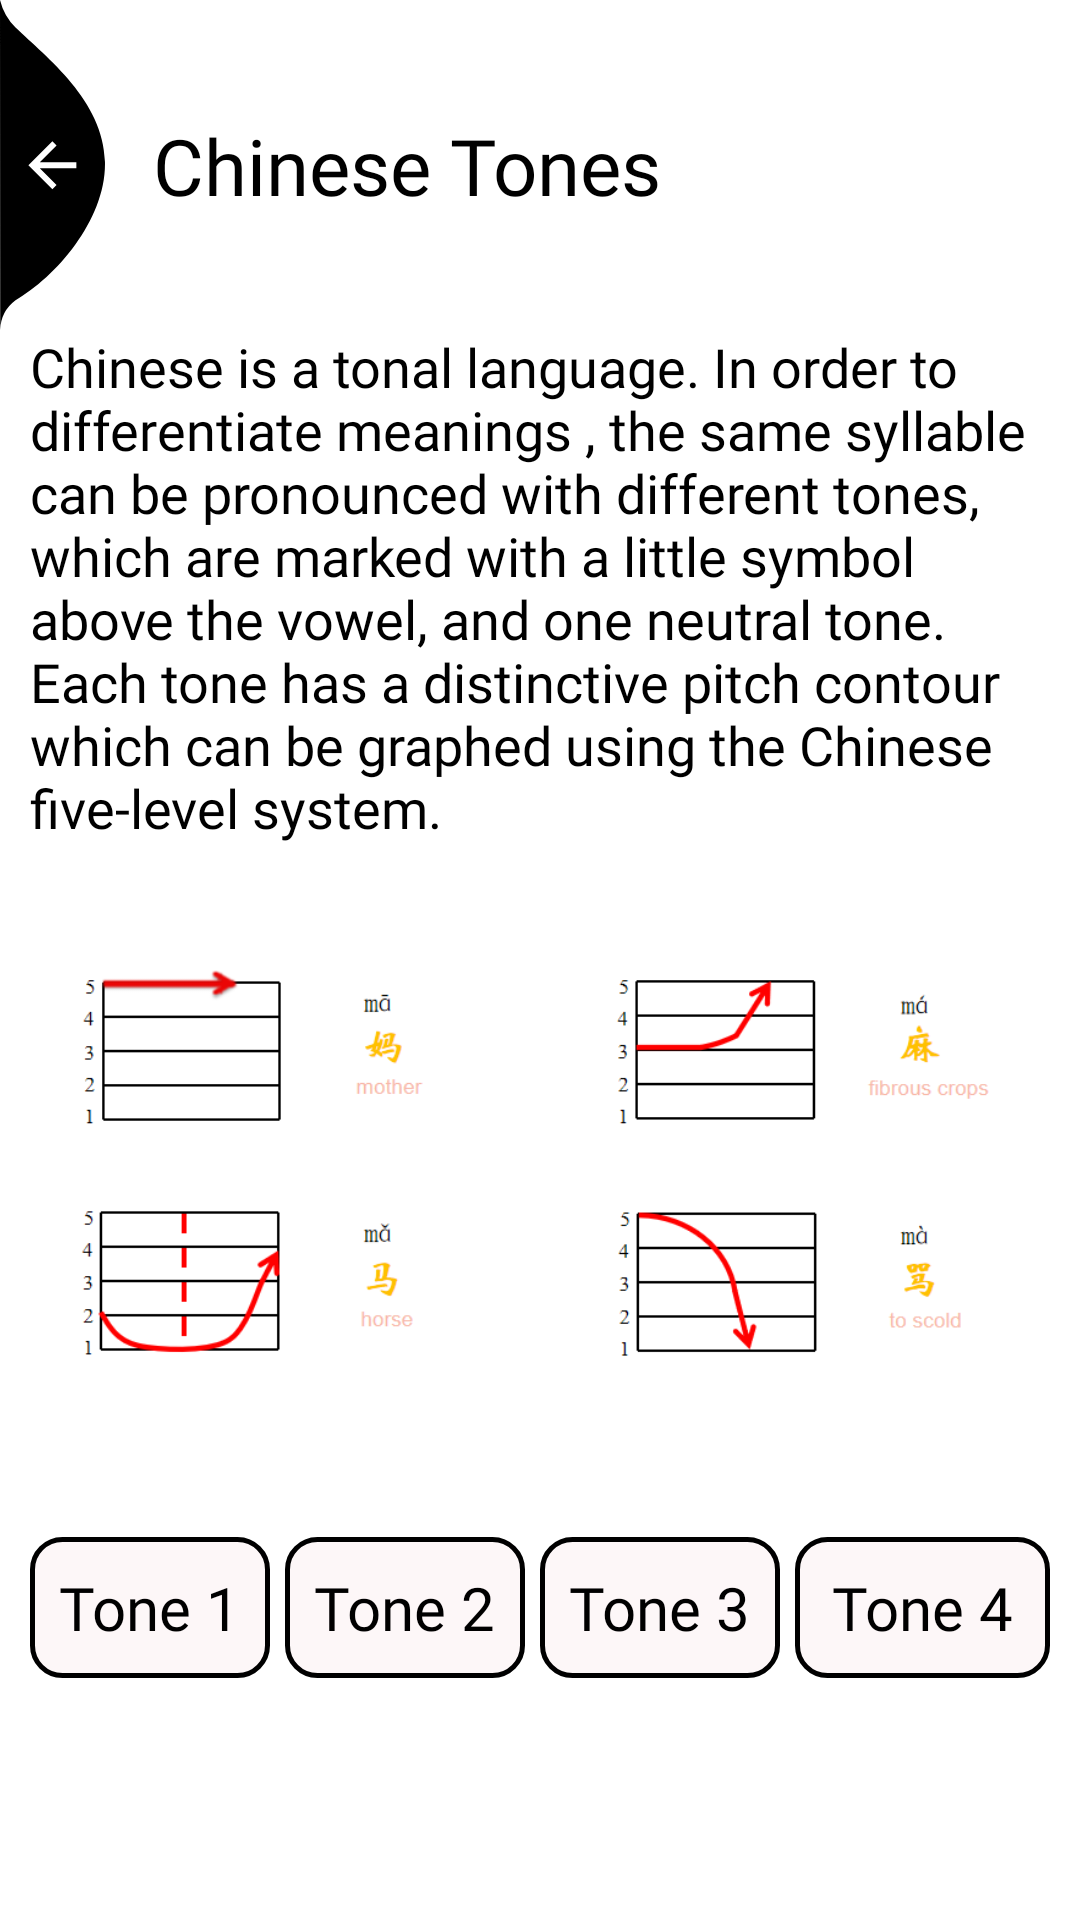

Point at icon controls on the screen. Image size 1080x1920, points as [x,y].
back: [52,164]
